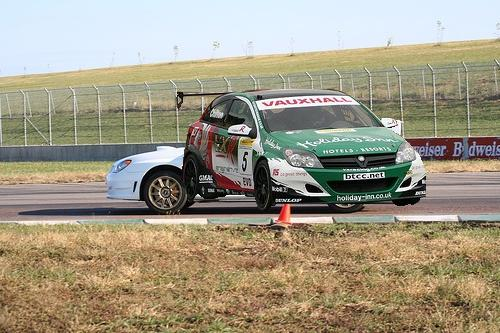tampered: (177, 90, 426, 212)
